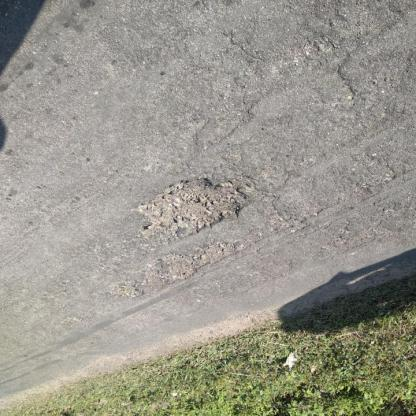pothole: (135, 177, 260, 244), (151, 242, 244, 286), (108, 280, 146, 302)
